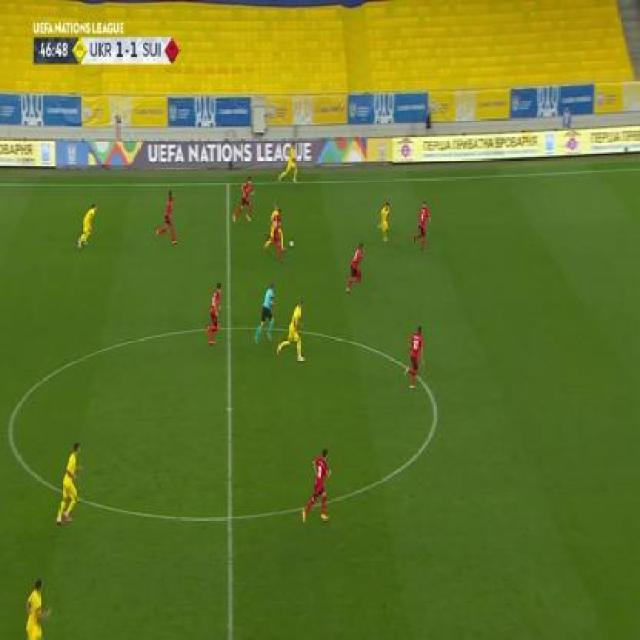ball: (289, 237, 295, 250)
player: (301, 448, 334, 525), (56, 440, 85, 525), (275, 299, 308, 364), (23, 575, 52, 640), (253, 281, 278, 344), (405, 325, 427, 393), (155, 190, 180, 246), (264, 201, 287, 260), (205, 283, 224, 346), (344, 241, 366, 294), (412, 198, 434, 251), (232, 178, 257, 223), (76, 201, 98, 249), (279, 142, 299, 184), (376, 200, 392, 240)
